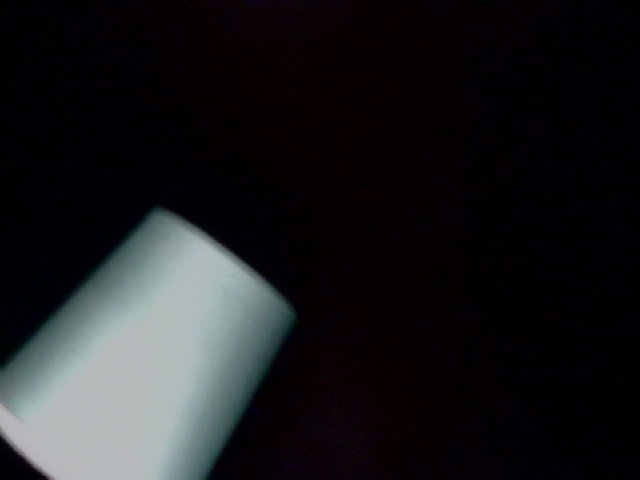KHSLJ: (247, 1, 497, 107)
